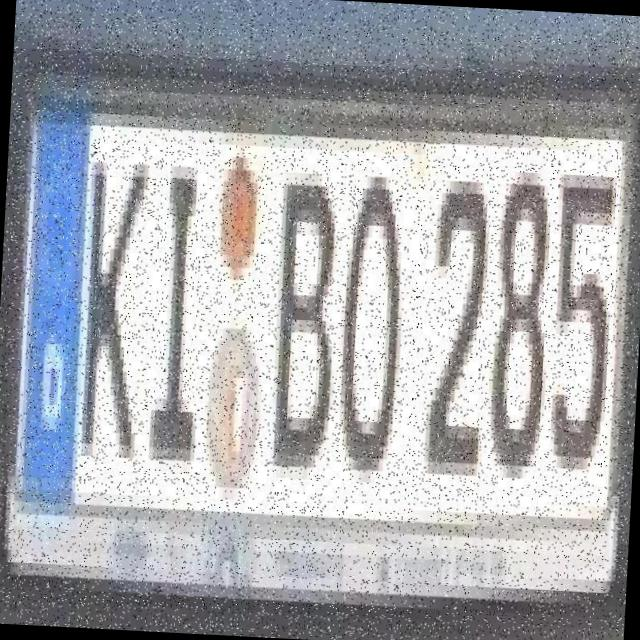LicensePlate: (2, 54, 640, 608)
